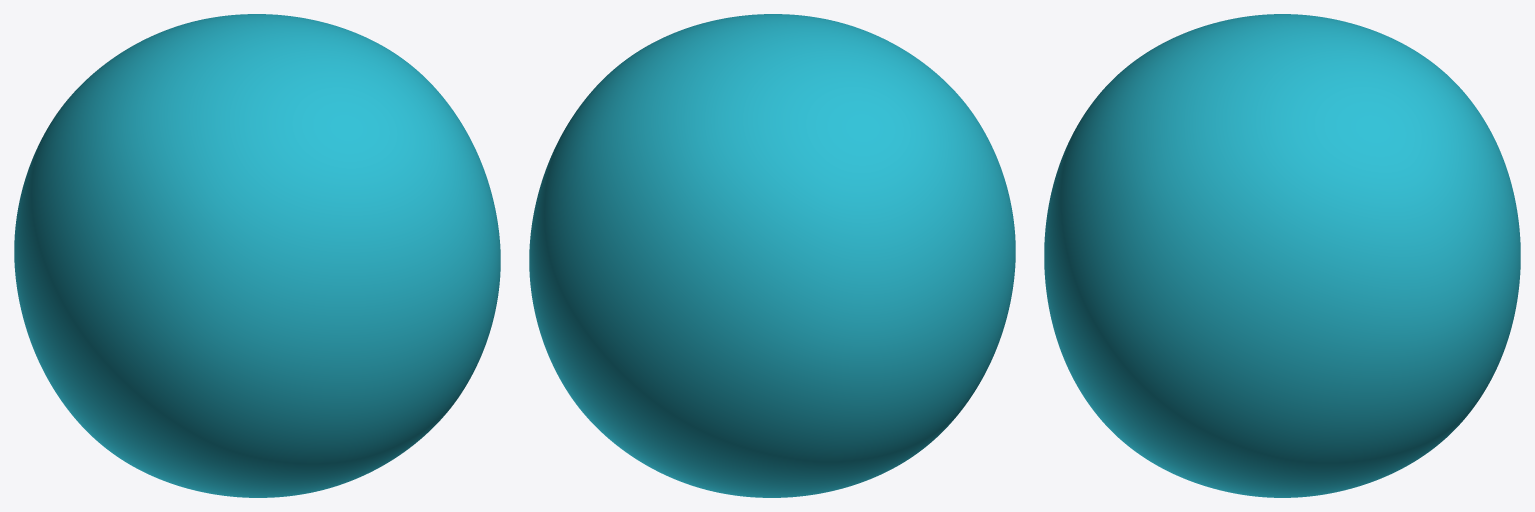
Rendered from WaterUndisplaced.fbx.
The picture shows the model from 3 angles, left to right: view 1: azimuth 30°, elevation 25°; view 2: azimuth 150°, elevation 25°; view 3: azimuth 270°, elevation 25°; orthographic projection.
Parts seen in each view (by area): view 1: Water; view 2: Water; view 3: Water.
Part boxes in pixels (left/top/right/bottom): Water: left=14, top=14, right=500, bottom=497; Water: left=529, top=14, right=1015, bottom=497; Water: left=1044, top=14, right=1520, bottom=497.
Bounding box in the file's own units: 5000 × 5000 × 5000.
